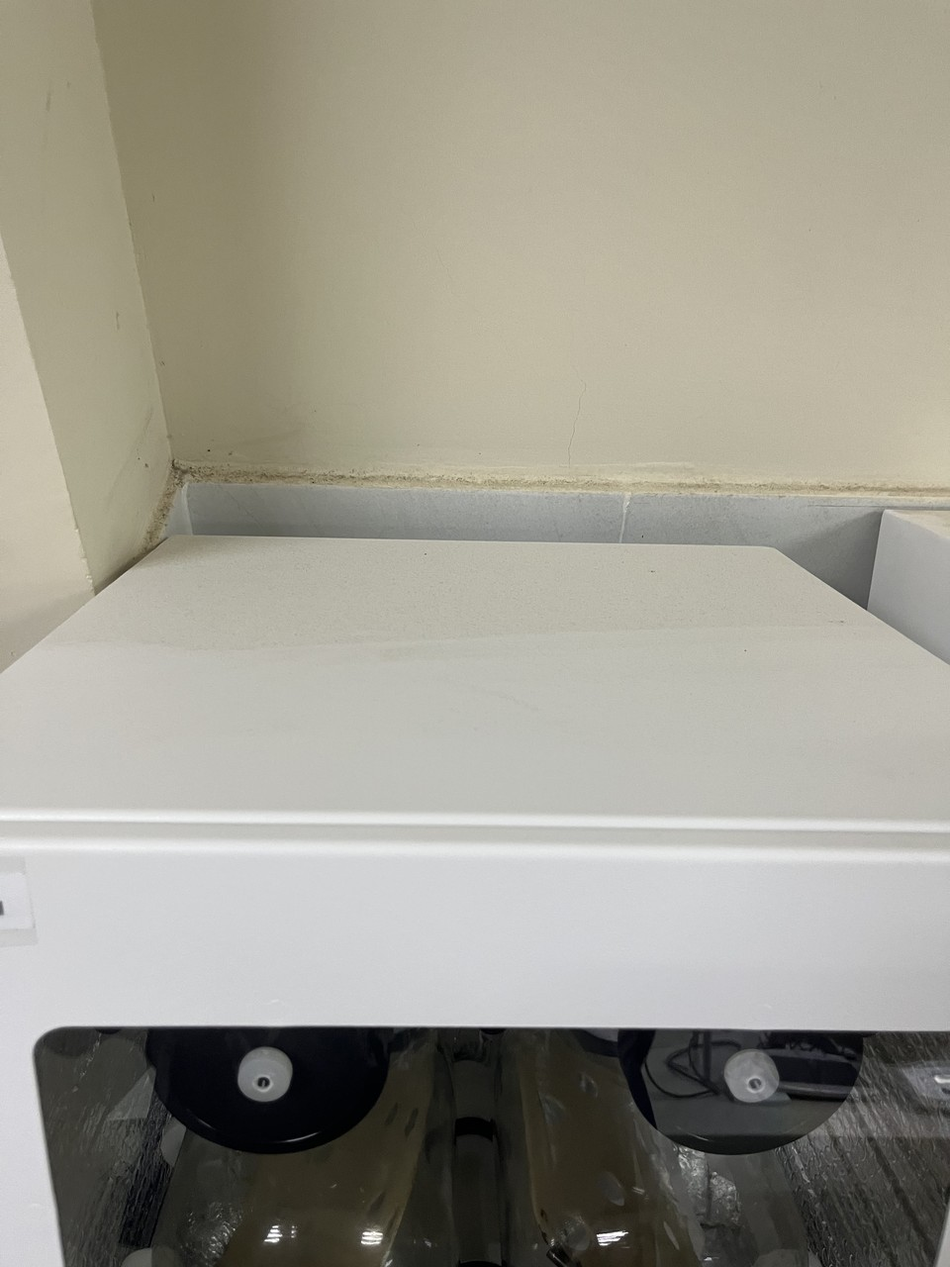ankom_daisy_incubator: (0, 454, 950, 1263)
